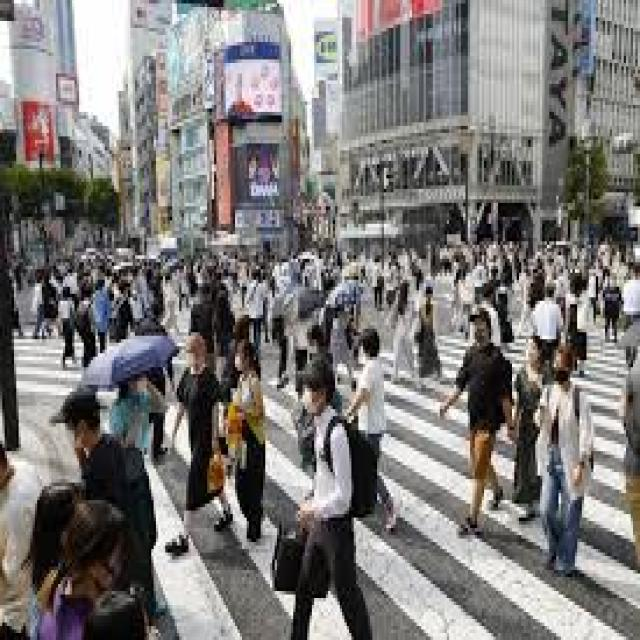Pedestrians: (277, 353, 375, 637), (449, 308, 503, 535), (170, 332, 228, 535), (353, 332, 402, 521), (228, 339, 270, 542)
